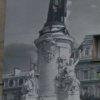Statue: (26, 14, 84, 97)
